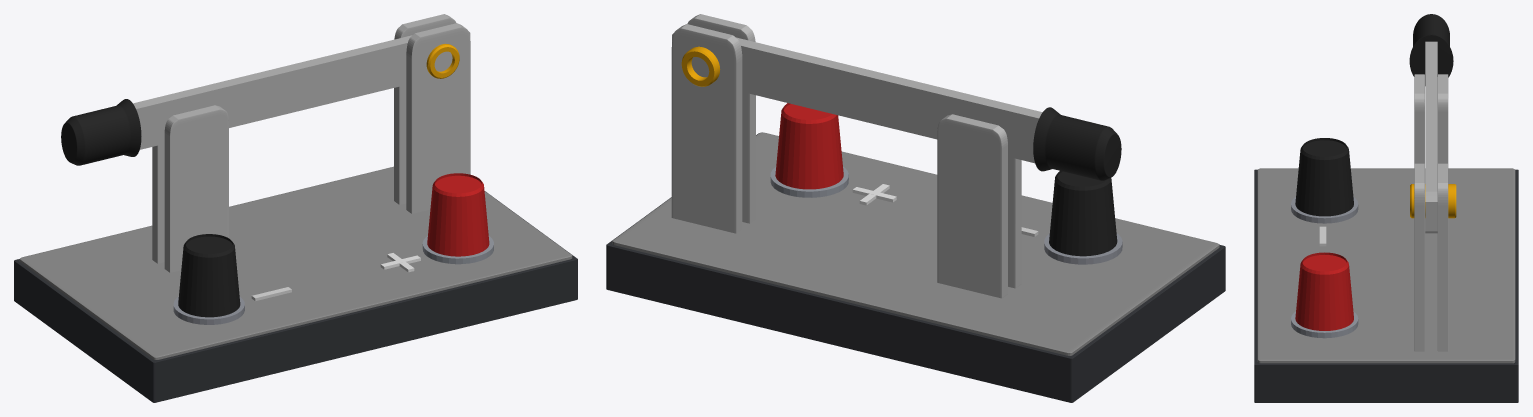
File: KLUCH.fbx
3 views of the same model, side by side, from view 1: azimuth 30°, elevation 25°; view 2: azimuth 150°, elevation 25°; view 3: azimuth 270°, elevation 25° (orthographic). The views are drawn at different scales.
Parts seen in each view (by area): view 1: Cube, Cube.007, Cube.002, Cube.001, Cube.003, Cylinder.005, Cylinder.004, Cylinder, Cylinder.003, Cylinder.002, Cylinder.001; view 2: Cube, Cube.007, Cube.002, Cube.003, Cube.001, Cylinder.005, Cylinder.004, Cylinder, Cylinder.001, Cylinder.002, Cylinder.003; view 3: Cube, Cube.007, Cube.002, Cylinder.004, Cylinder.005, Cube.001, Cube.003, Cylinder, Cylinder.002, Cylinder.003, Cylinder.001.
Part boxes in pixels (bbox=[...]): Cube: bbox=[19, 166, 572, 359]; Cube.007: bbox=[14, 191, 577, 402]; Cube.002: bbox=[394, 14, 470, 213]; Cube.001: bbox=[133, 31, 470, 149]; Cube.003: bbox=[152, 105, 228, 272]; Cylinder.005: bbox=[427, 173, 489, 256]; Cylinder.004: bbox=[178, 234, 240, 317]; Cylinder: bbox=[61, 99, 141, 165]; Cylinder.003: bbox=[422, 236, 493, 264]; Cylinder.002: bbox=[173, 296, 244, 324]; Cylinder.001: bbox=[426, 43, 459, 78]; Cube: bbox=[612, 132, 1219, 355]; Cube.007: bbox=[606, 133, 1225, 402]; Cube.002: bbox=[671, 14, 755, 233]; Cube.003: bbox=[937, 114, 1021, 298]; Cube.001: bbox=[672, 33, 1042, 163]; Cylinder.005: bbox=[775, 103, 843, 189]; Cylinder.004: bbox=[1049, 171, 1117, 256]; Cylinder: bbox=[1033, 107, 1121, 180]; Cylinder.001: bbox=[681, 46, 720, 86]; Cylinder.002: bbox=[1044, 233, 1122, 264]; Cylinder.003: bbox=[770, 166, 848, 197]; Cube: bbox=[1257, 168, 1515, 363]; Cube.007: bbox=[1254, 169, 1518, 402]; Cube.002: bbox=[1414, 163, 1448, 351]; Cylinder.004: bbox=[1295, 138, 1353, 216]; Cylinder.005: bbox=[1295, 252, 1353, 330]; Cube.001: bbox=[1425, 41, 1437, 233]; Cube.003: bbox=[1414, 74, 1448, 166]; Cylinder: bbox=[1409, 14, 1453, 85]; Cylinder.002: bbox=[1291, 197, 1358, 223]; Cylinder.003: bbox=[1291, 311, 1358, 338]; Cylinder.001: bbox=[1410, 184, 1456, 218].
Size of the model in its own units: 359 by 176 by 205.
